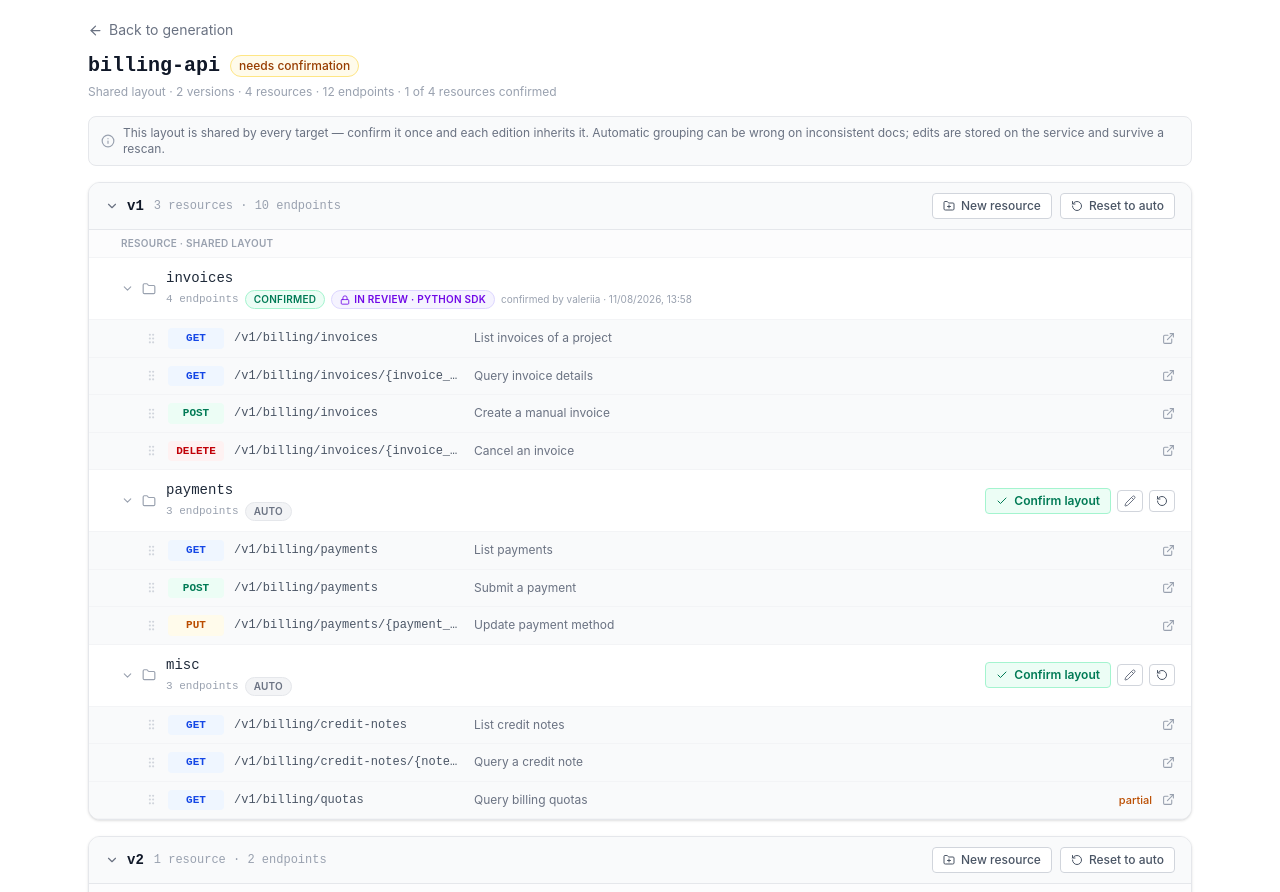
Scenario: the billing-api layout on the in-memory mock › renames a resource once the name passes, without confirming it
The image size is (1280, 892).
Expected: the heading "billing-api" is shown, [88,52,220,80]
Click the 1st button named "Rename resource" at (1130, 500), box [1117,490,1143,512]
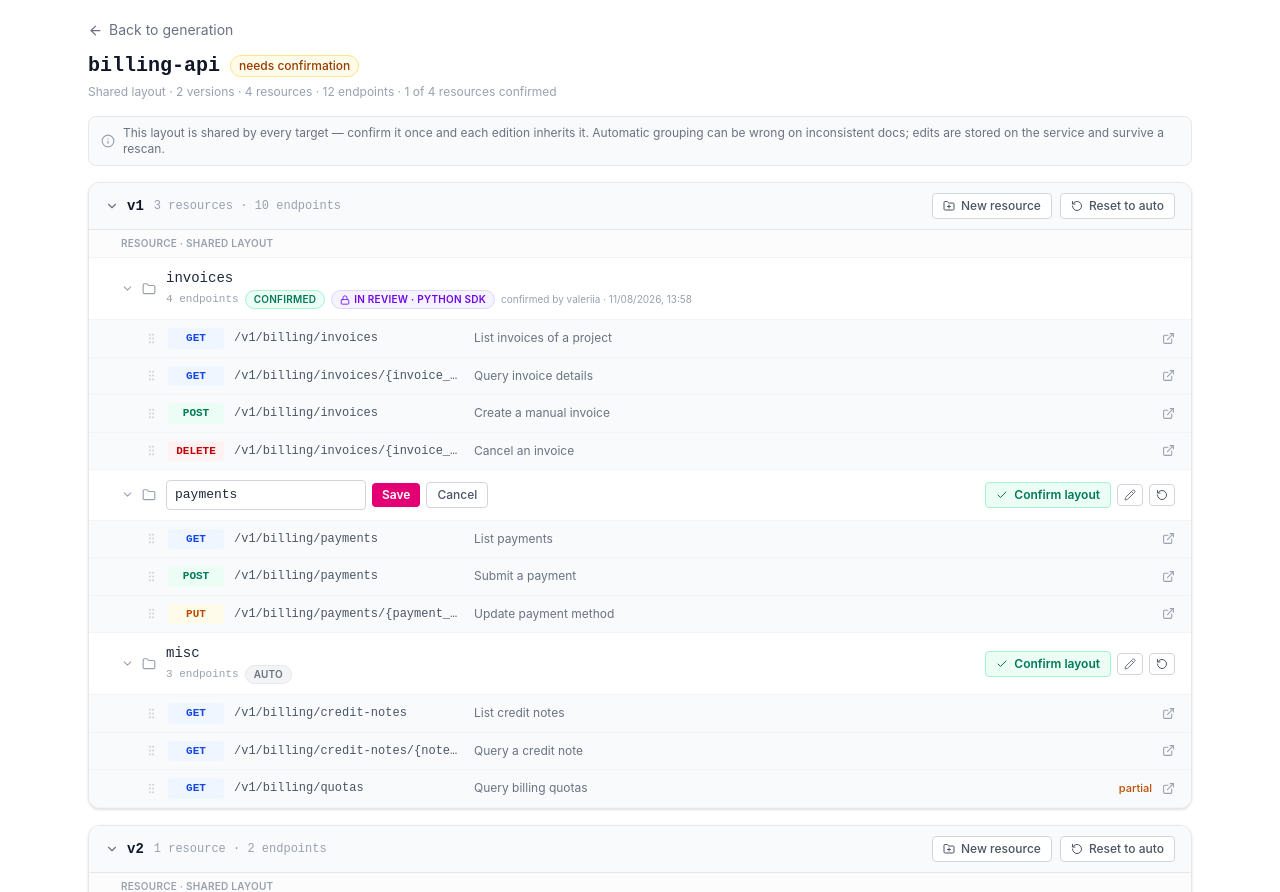
Expected: the field named "Rename resource" holds "payments"
Replace the text in the field named "Rename resource" with "Bad Name" at (266, 495), box [166,480,366,510]
Click the button "Save" at (396, 495), box [372,483,420,507]
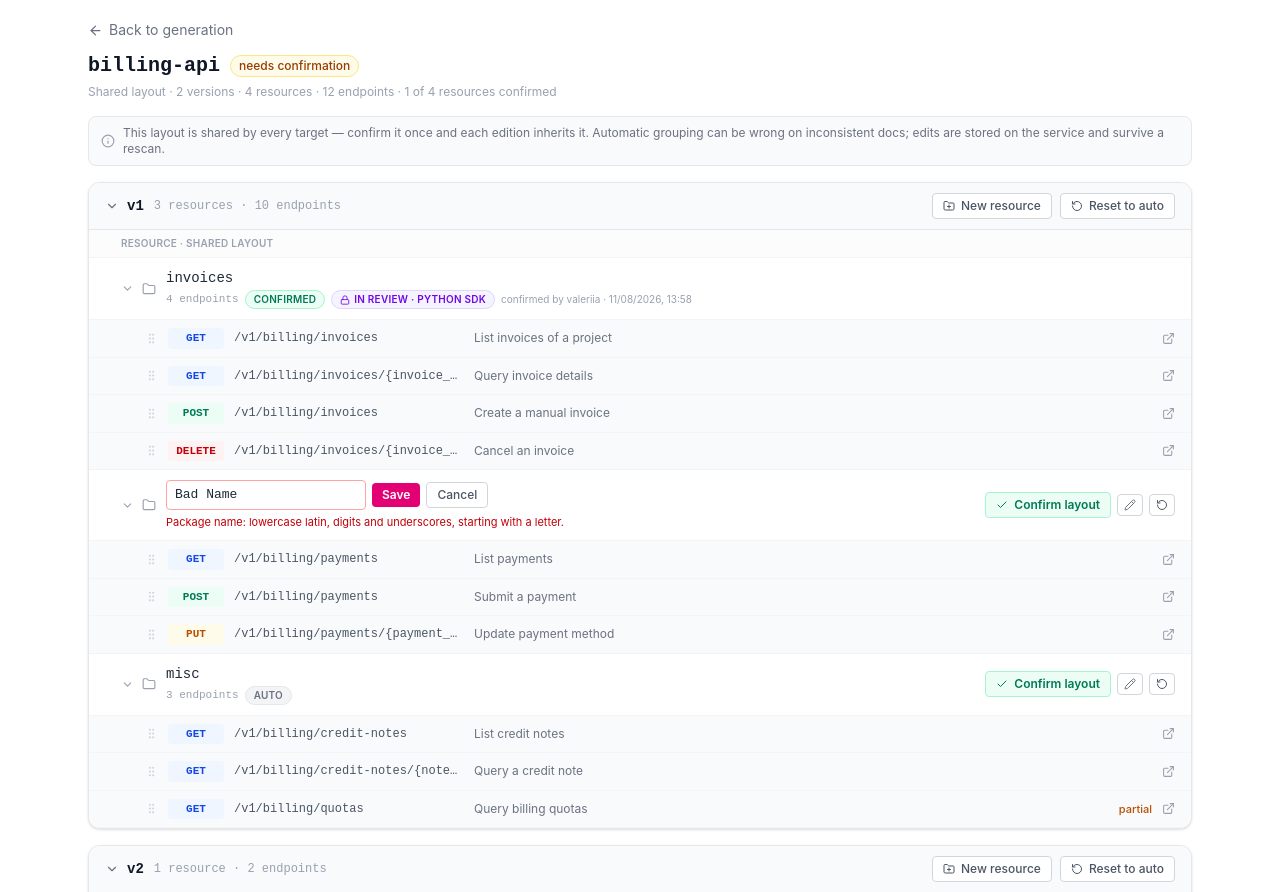
Expected: the text "Package name: lowercase latin, digits and underscores, starting with a letter." is shown, [166,514,564,528]
Replace the text in the field named "Rename resource" with "misc" at (266, 495), box [166,480,366,510]
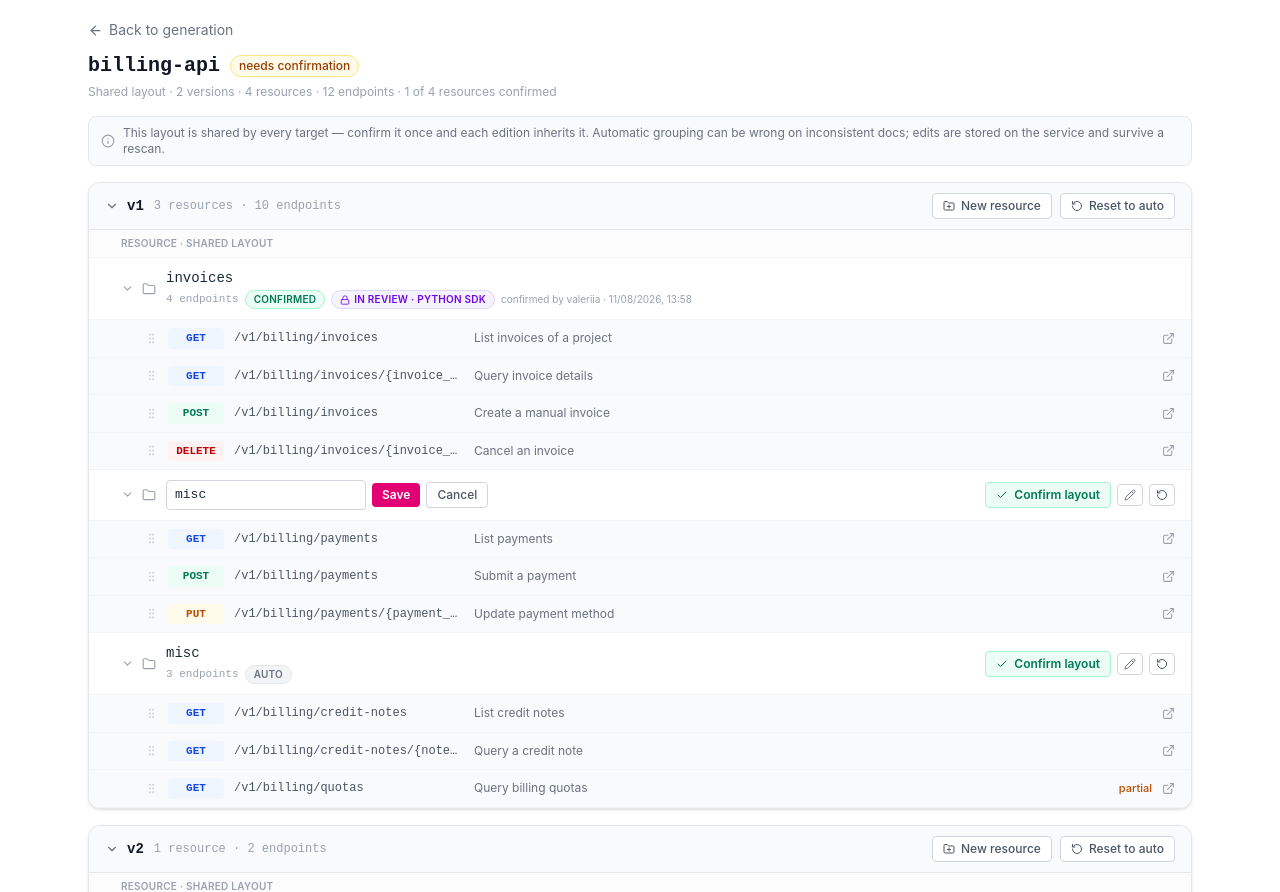
Press Enter in the field named "Rename resource", box [166,480,366,510]
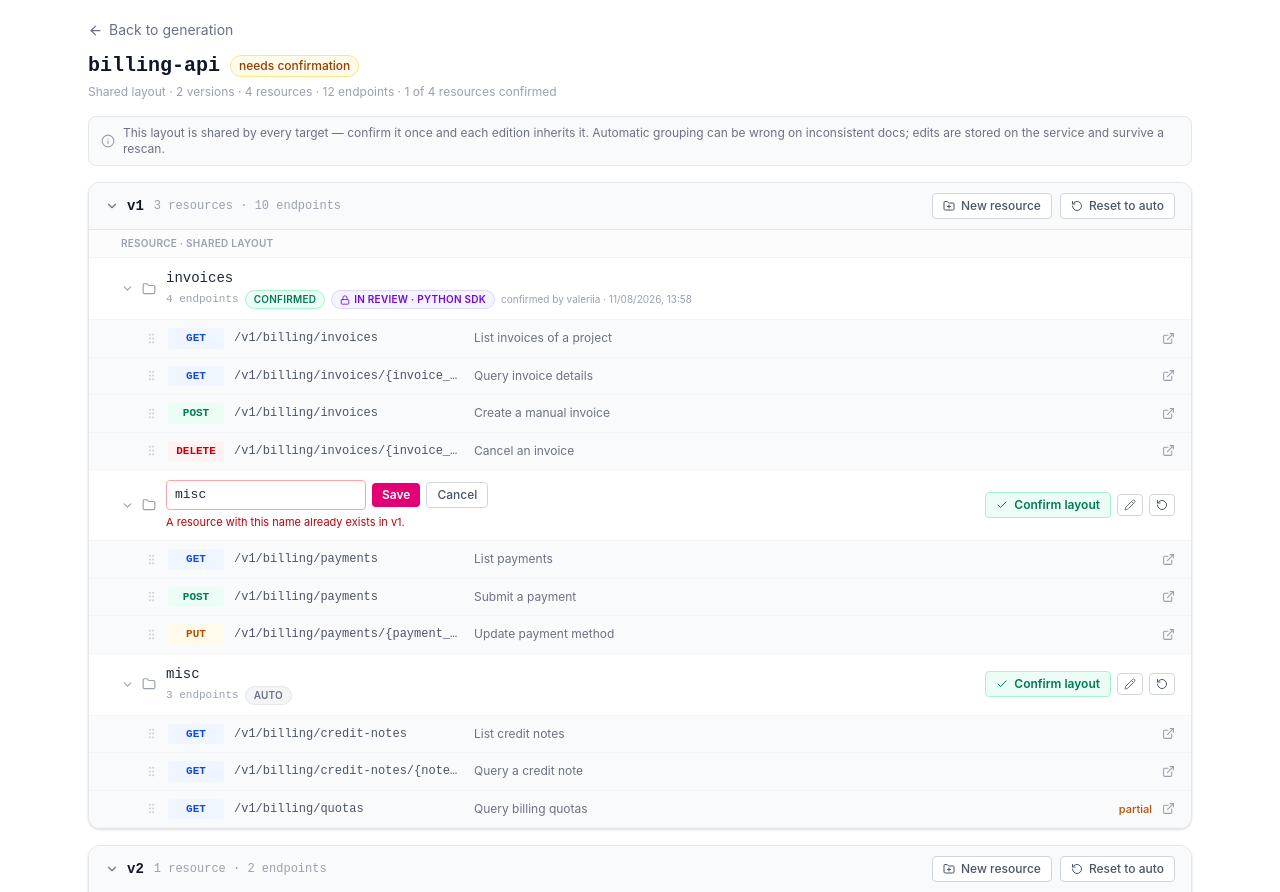
Expected: the text "A resource with this name already exists in v1." is shown, [166,514,405,528]
Replace the text in the field named "Rename resource" with " charges " at (266, 495), box [166,480,366,510]
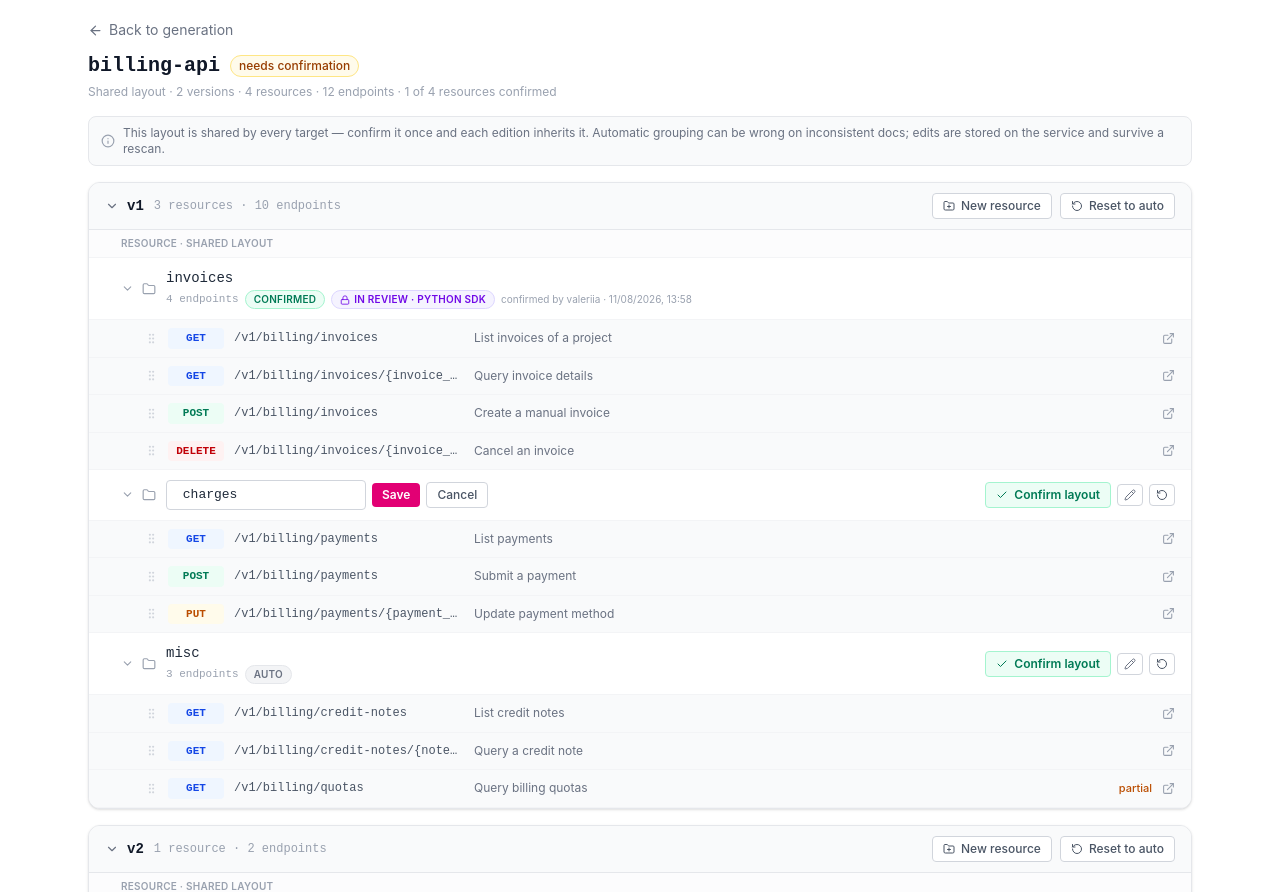
Click the button "Save" at (396, 495), box [372,483,420,507]
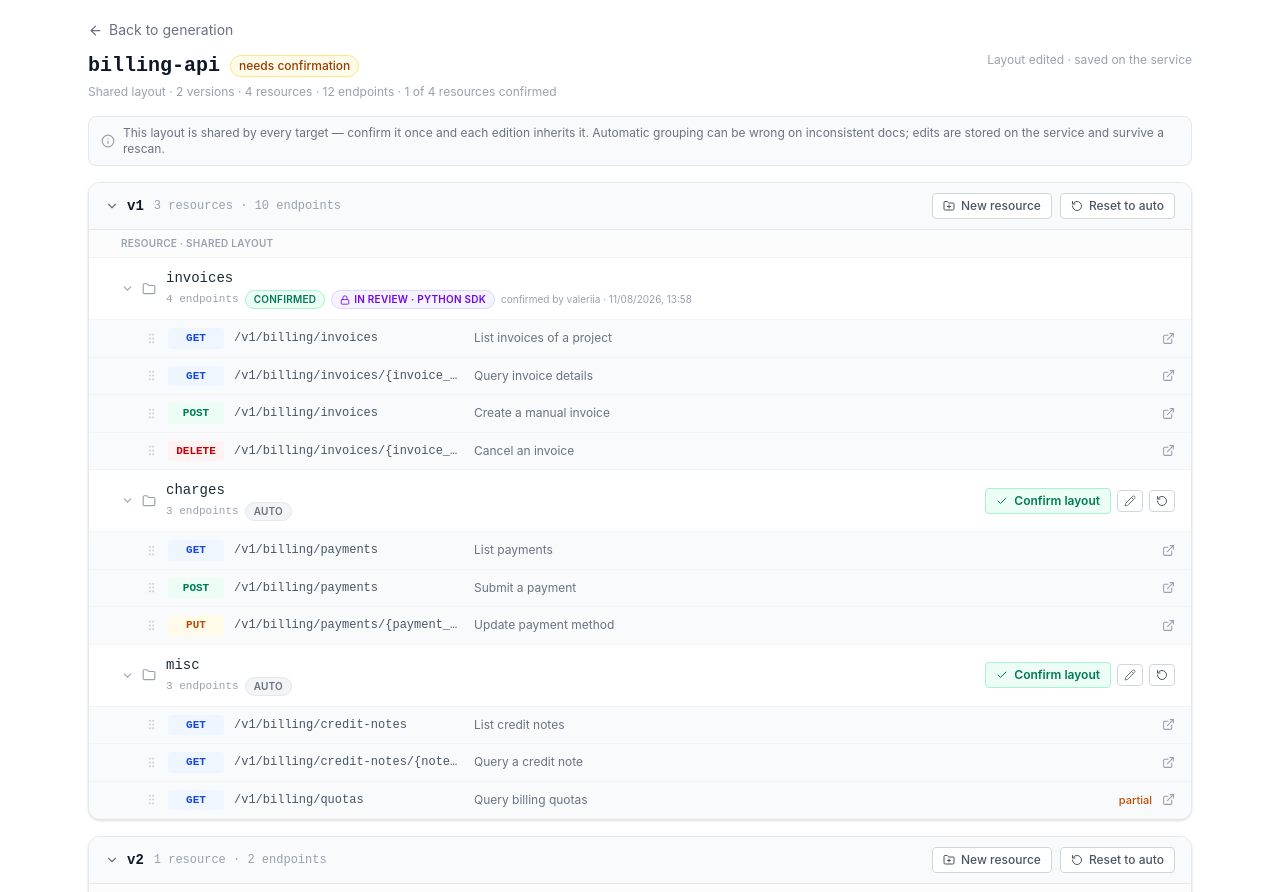
Expected: the button "Confirm layout" in the row of "charges" is shown, [985,488,1111,514]
Expected: the field is gone
Expected: the text "auto" below "charges" is shown, [254,505,283,517]
